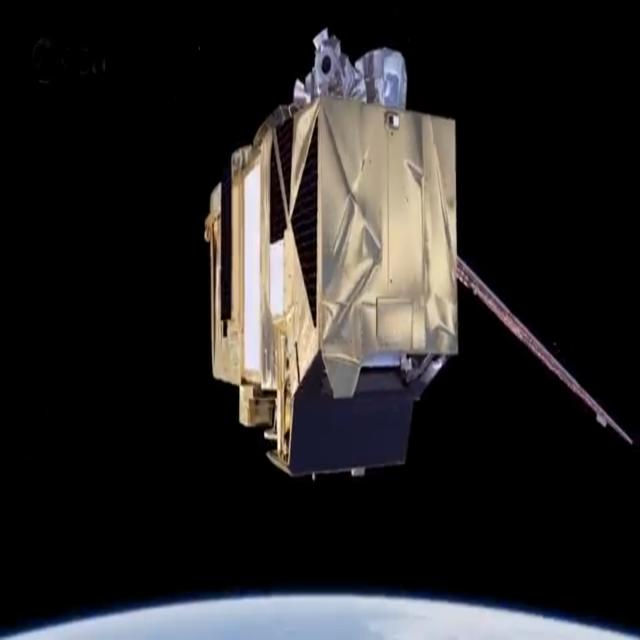medium_debris: (195, 19, 640, 484)
